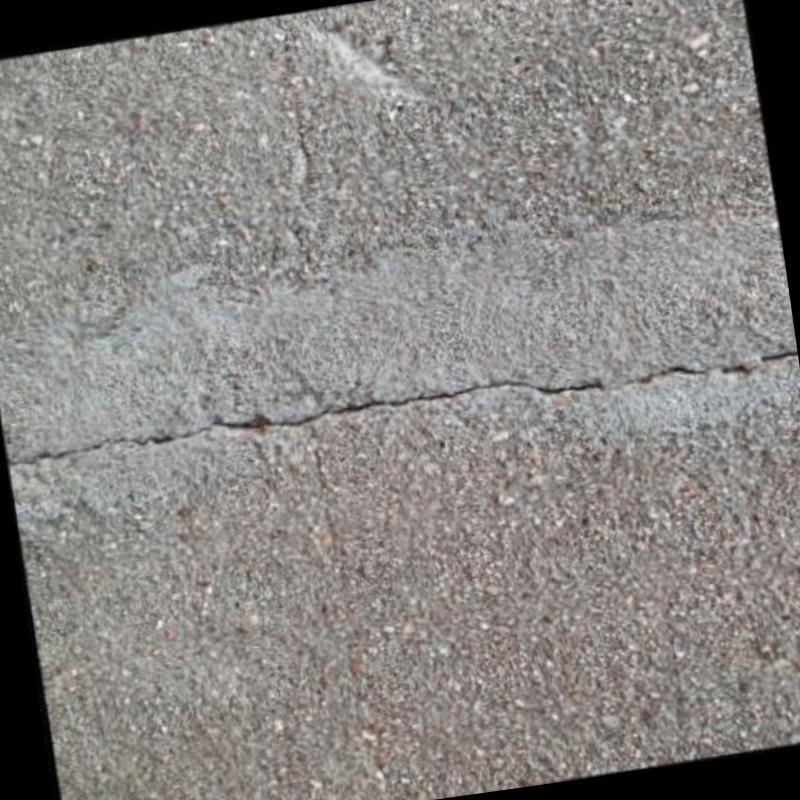pothole: (5, 350, 798, 467)
